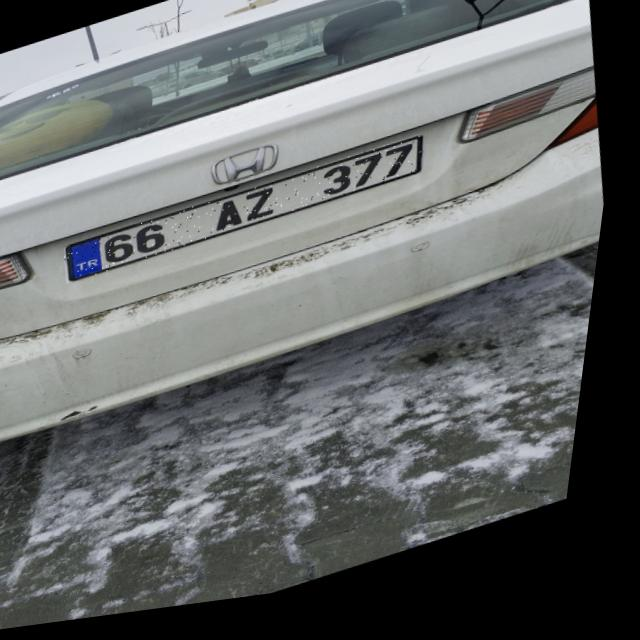license_plate: (67, 146, 432, 288)
